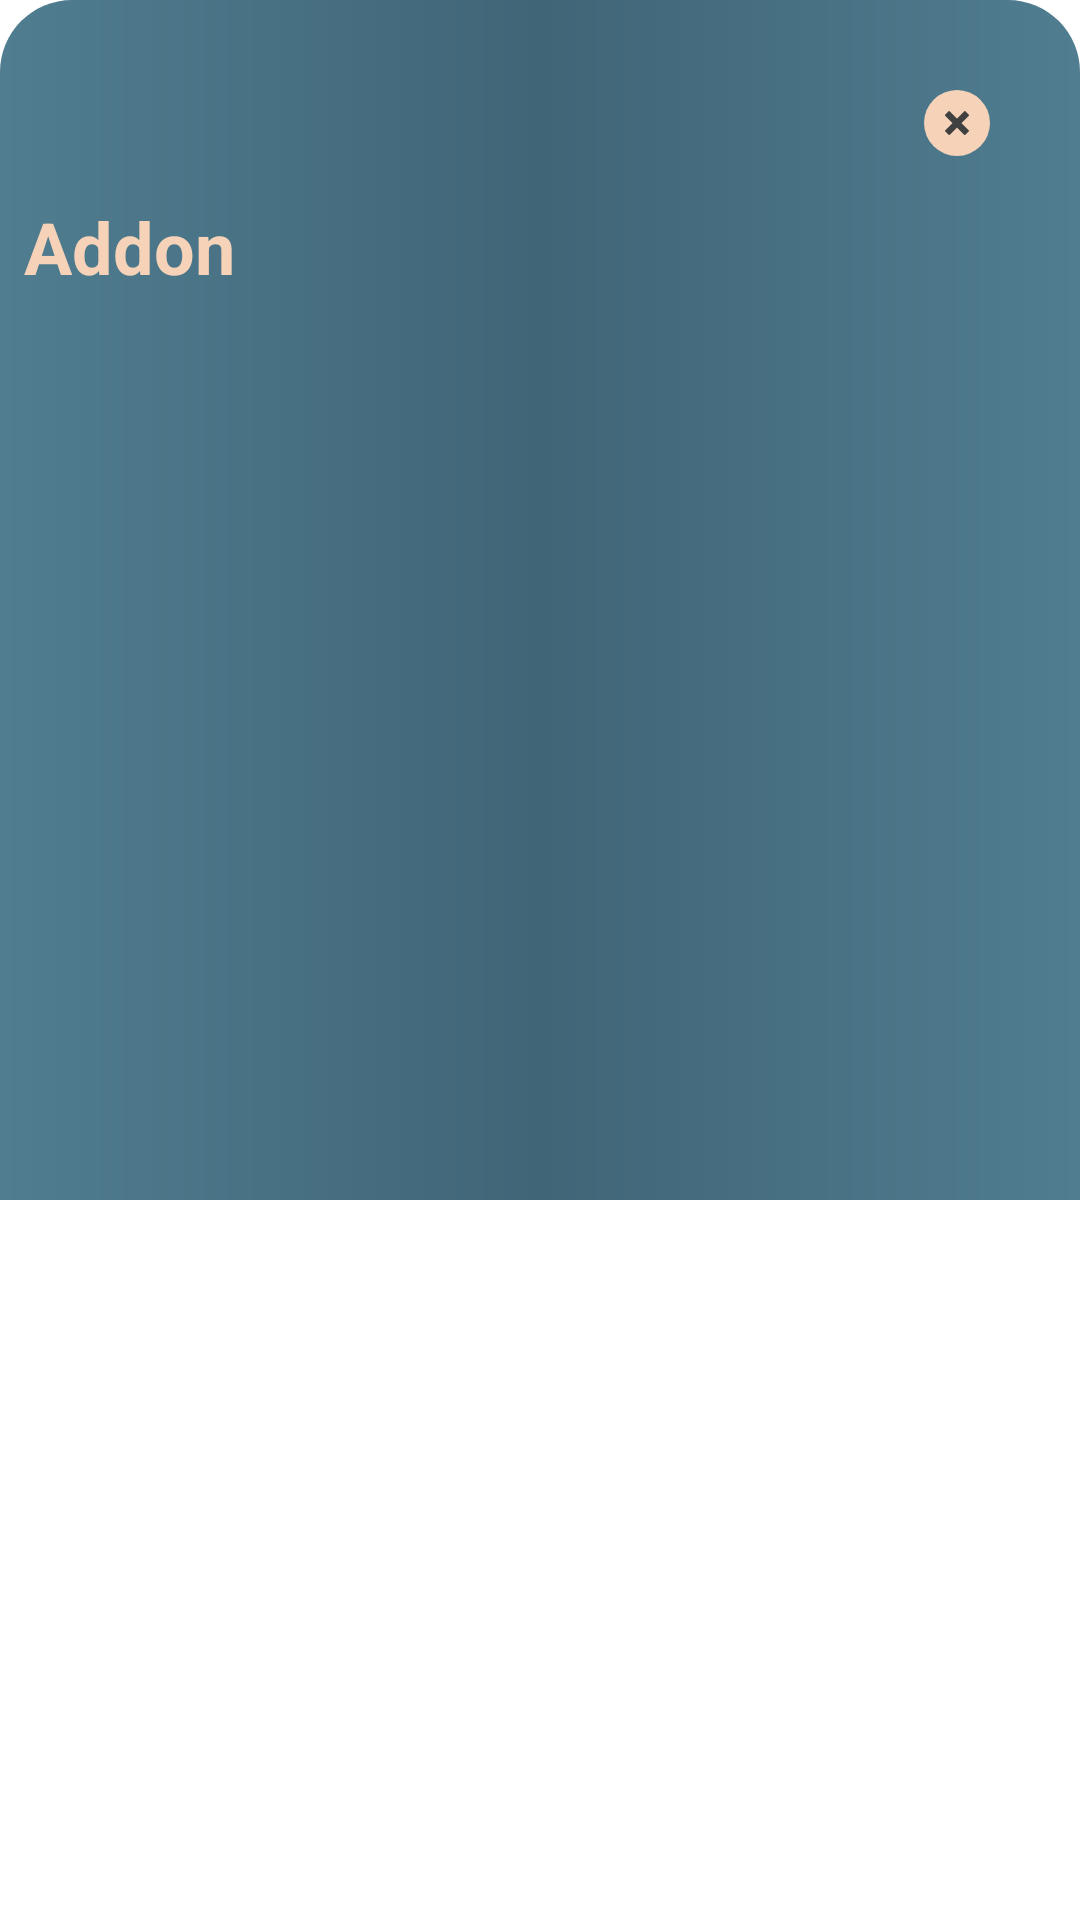

Icons on this 1080px x 1920px Android screen, each with its box as detection(x1, y1, x2, y2):
cancel dialog: detection(924, 90, 990, 156)
